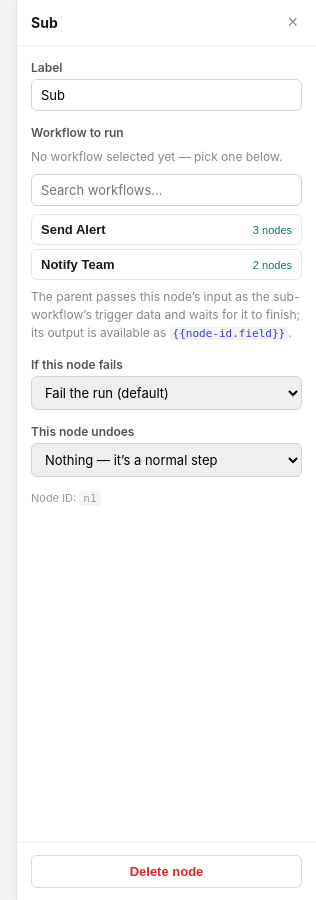
Test: NodeConfigPanel — sub-workflow picker › filters the list by the search query
The image size is (316, 900).
Expected: the text "Send Alert" is shown, [41,222,106,237]
Type "notify" into the search field with placeholder "Search workflows…" at x=166, y=190, box [31,174,302,206]
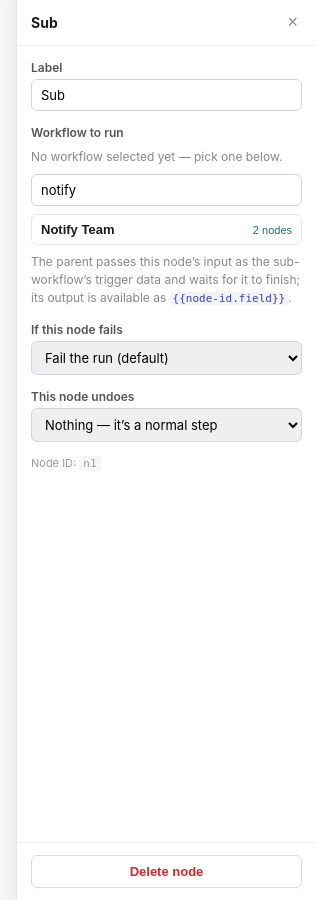
Expected: the text "Notify Team" is shown, [41,222,114,237]
Now the button "Send Alert" is gone
